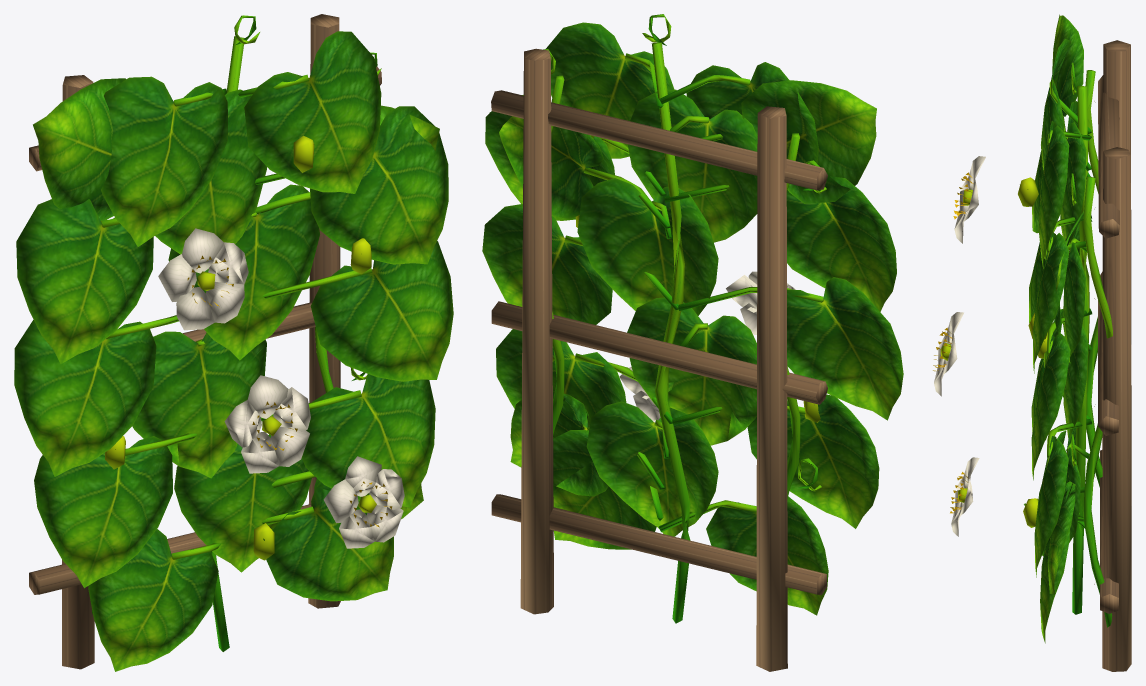
The model's file is NP_Kiwi_Flowering_LOD1.fbx.
3 views of the same model, side by side, from view 1: azimuth 30°, elevation 25°; view 2: azimuth 150°, elevation 25°; view 3: azimuth 270°, elevation 25° (orthographic). The views are drawn at different scales.
Parts seen in each view (by area): view 1: NP_Kiwi_Flowering; view 2: NP_Kiwi_Flowering; view 3: NP_Kiwi_Flowering.
Part boxes in pixels (left/top/right/bottom): NP_Kiwi_Flowering: left=14, top=14, right=453, bottom=671; NP_Kiwi_Flowering: left=482, top=14, right=903, bottom=671; NP_Kiwi_Flowering: left=933, top=14, right=1131, bottom=671.
Size of the model in its own units: 83.08 by 115 by 37.13.
